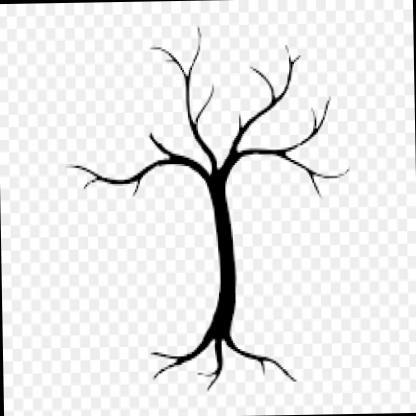root_only: (151, 326, 296, 394)
trunk_reflex: (206, 192, 238, 320)
